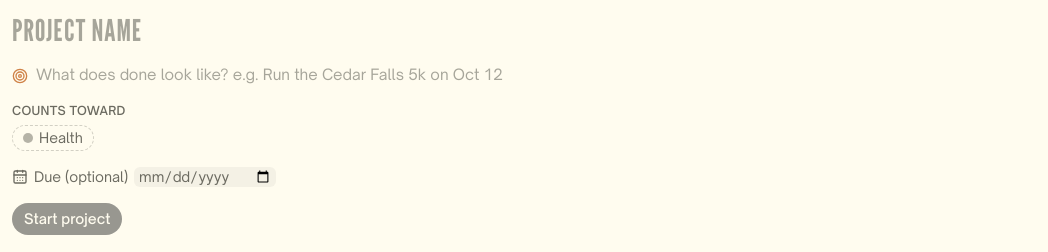
it: NewProjectForm › only lets you start the project once it has a name, an end goal and an intention
The width and height of the screenshot is (1048, 252).
Type "Garden" into the text box labelled "Project name".
click(524, 30); type("Garden")  # box [12, 12, 1036, 48]
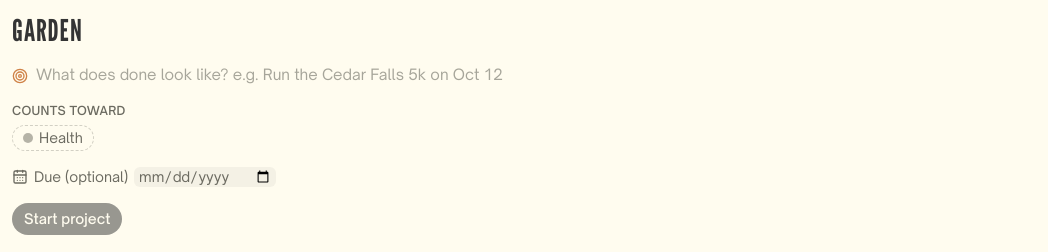
Replace the text in the text box named "End goal" with "Grow tomatoes" at (536, 75), box [36, 64, 1036, 86]
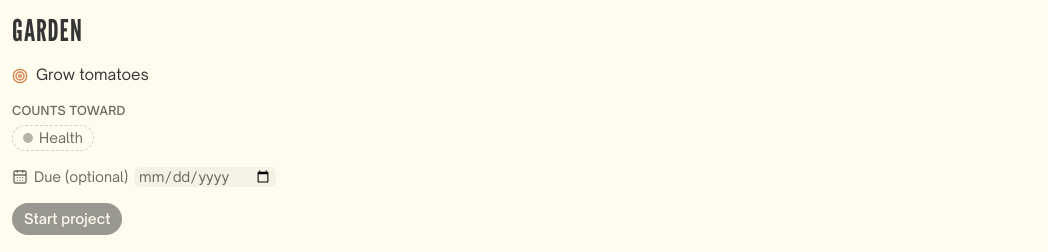
Expected: the button "Start project" is disabled, [12, 202, 122, 234]
Click the button "Health".
click(53, 138)  # box [12, 124, 94, 150]
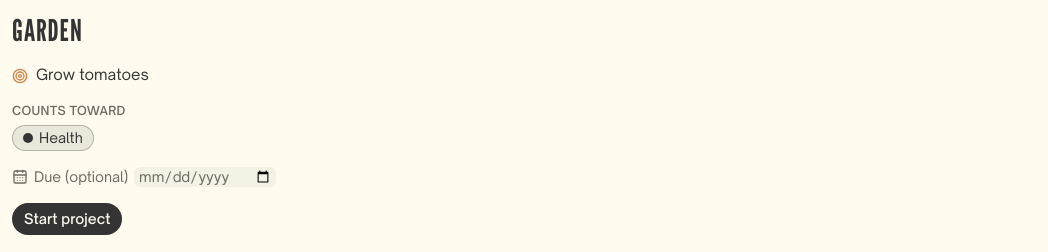
Expected: the button "Start project" is enabled, [12, 202, 122, 234]
